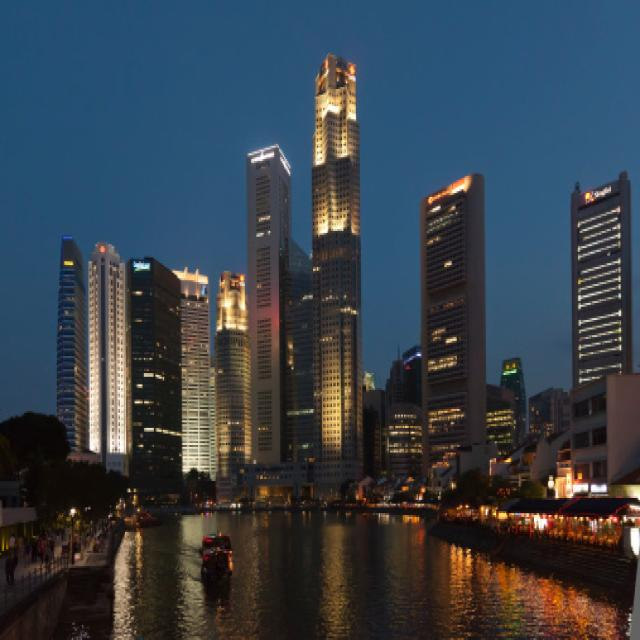Boat: (189, 524, 271, 621)
